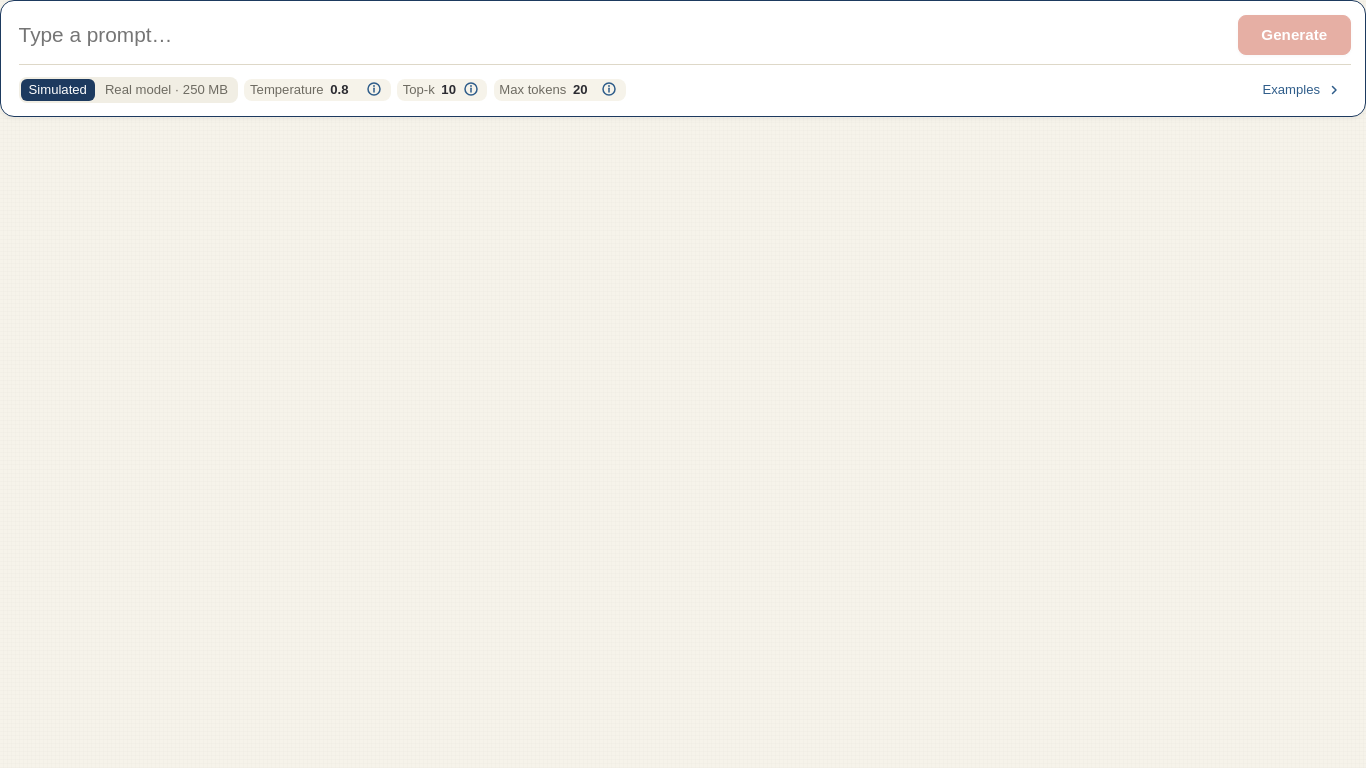
Test: the examples row starts closed with saved runs; its toggle opens it
Click the button with test id "toggle-examples" at (1302, 90), box [1254,74,1351,106]
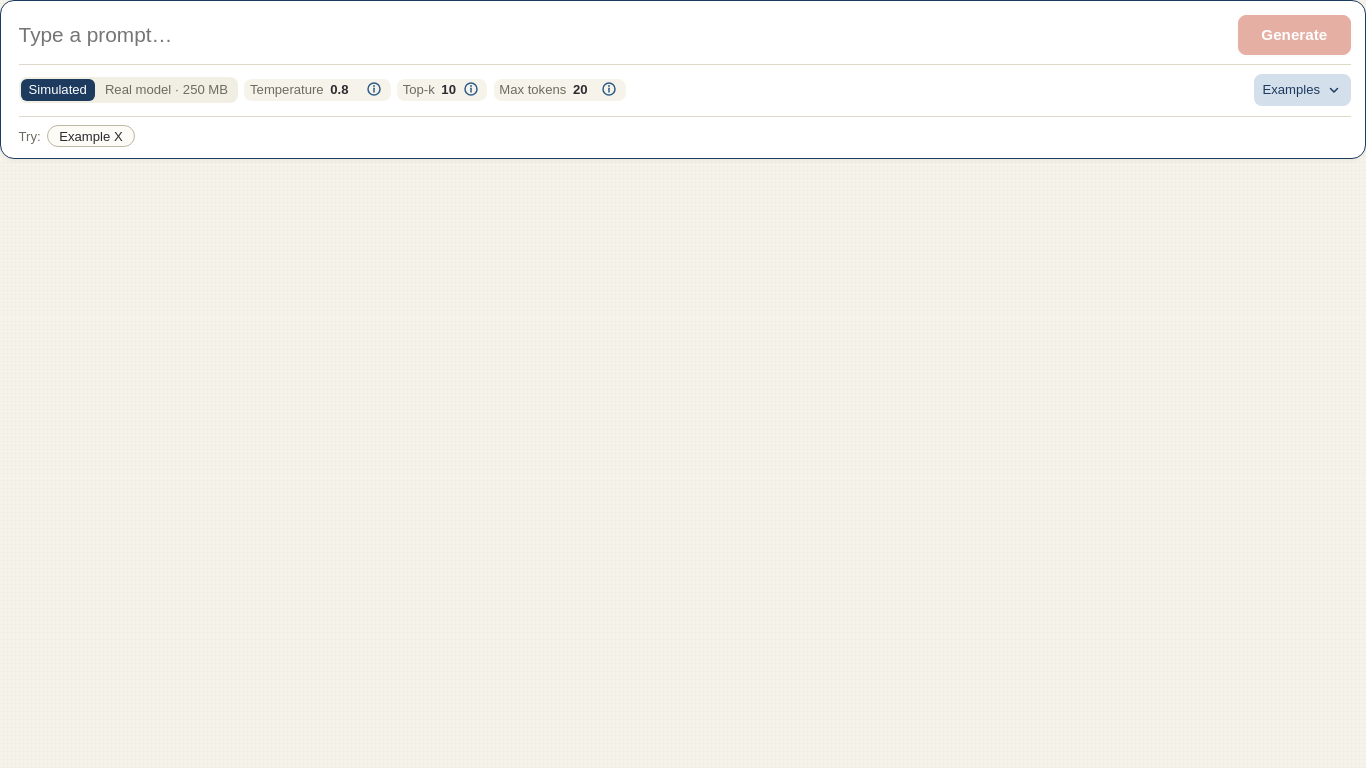
Check: the button with test id "toggle-examples" is expanded, box [1254,74,1351,106]
Check: the element with test id "examples-row" is shown, box [19,116,1351,147]
